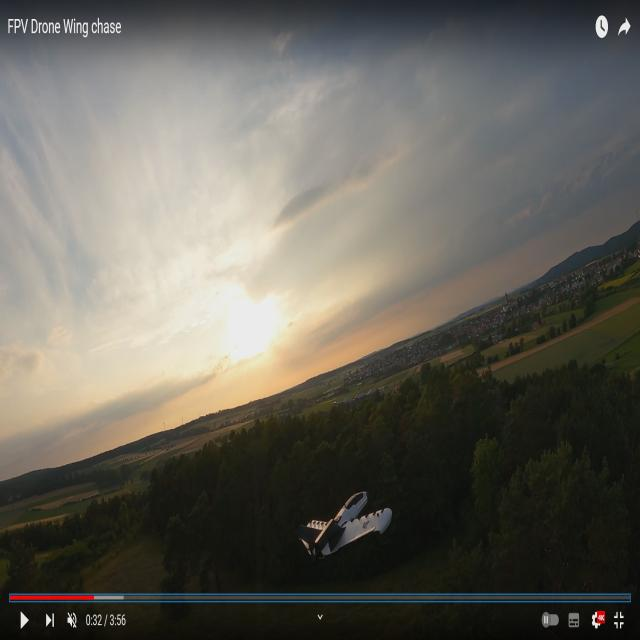iha: (335, 488, 360, 545)
